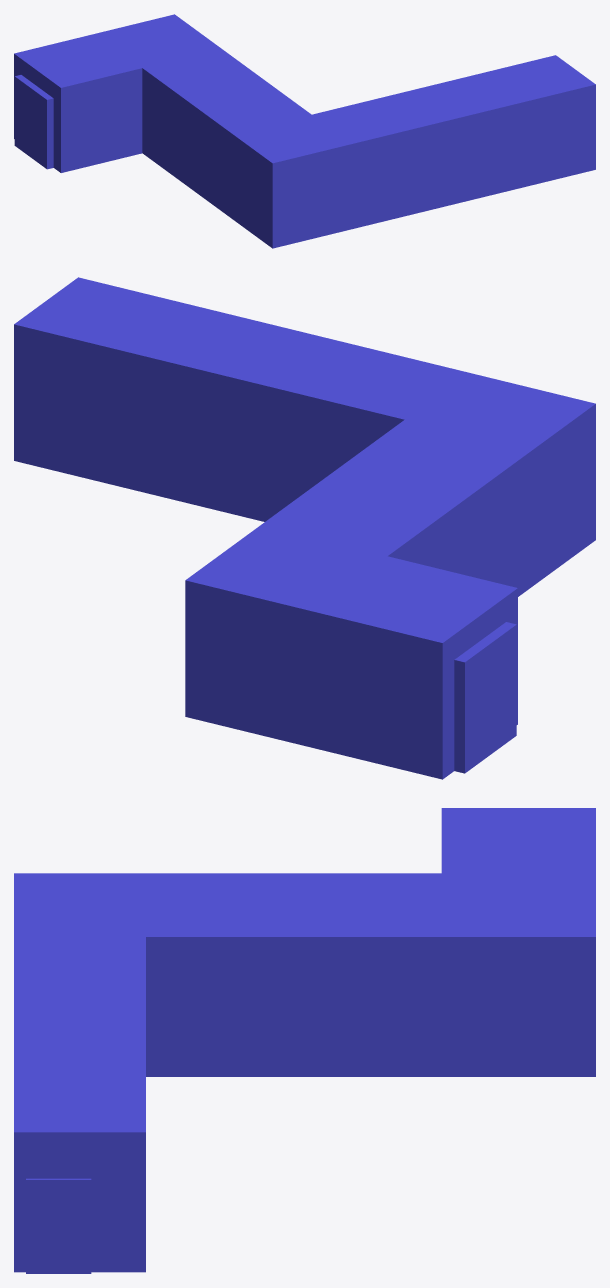
3 renders of one model, top to bottom at view 1: azimuth 30°, elevation 25°; view 2: azimuth 150°, elevation 25°; view 3: azimuth 270°, elevation 25°, orthographic. The views are drawn at different scales.
Visible parts, largest first — view 1: Cube; view 2: Cube; view 3: Cube.
Part boxes in pixels (<box>): Cube: <box>14,14,595,248</box>; Cube: <box>14,277,595,779</box>; Cube: <box>14,808,595,1273</box>.
Bounding box in the file's own units: 1015 × 200 × 754.
